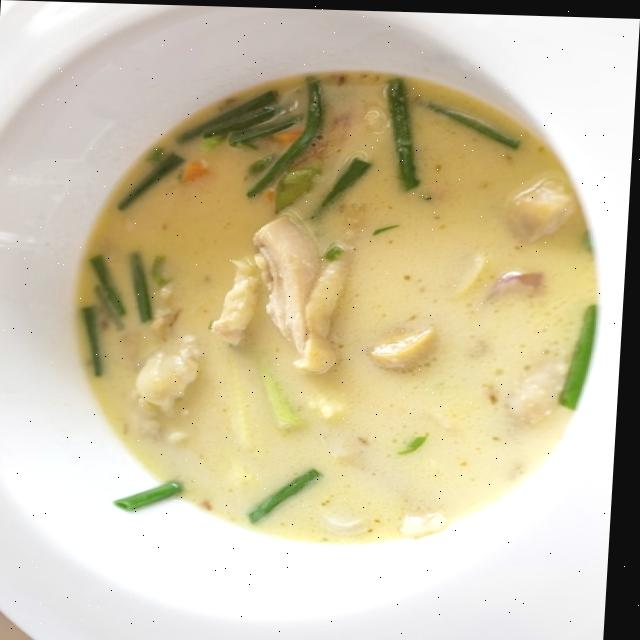汤锅炖物: (0, 0, 625, 602)
